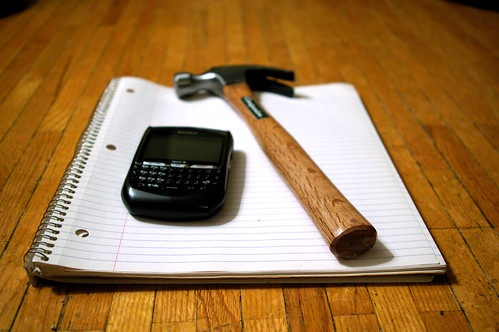hammer: (173, 61, 384, 261)
